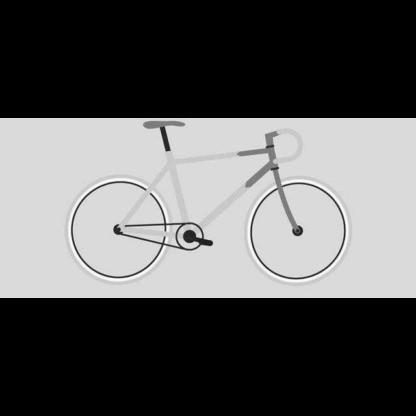Bicycle: (54, 122, 367, 291)
